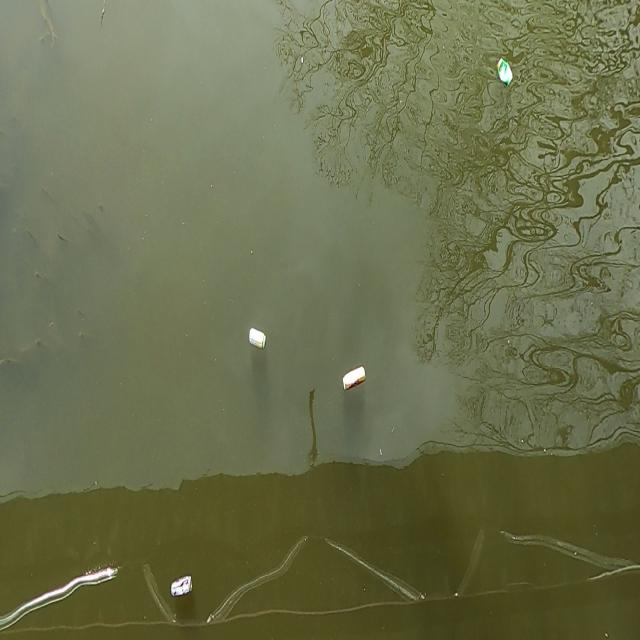Non plastique: (169, 569, 197, 605), (341, 362, 370, 394), (494, 54, 518, 90), (246, 325, 268, 353)
